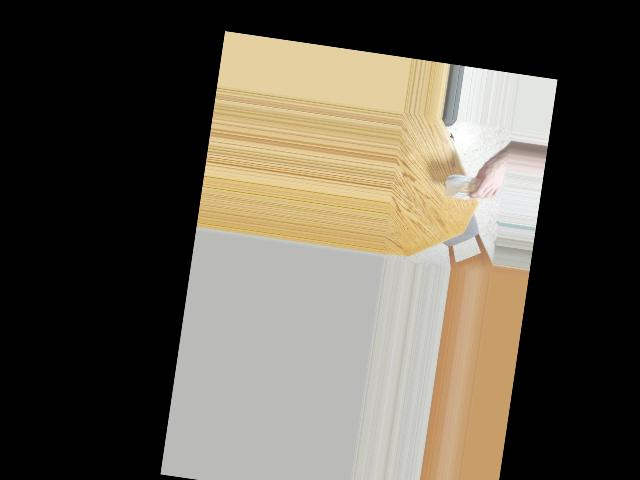cheese: (445, 165, 495, 210)
